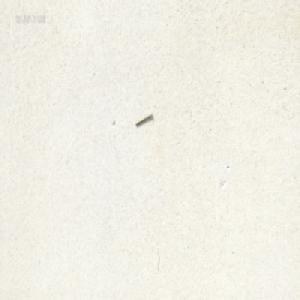Bolt: (134, 112, 151, 126)
